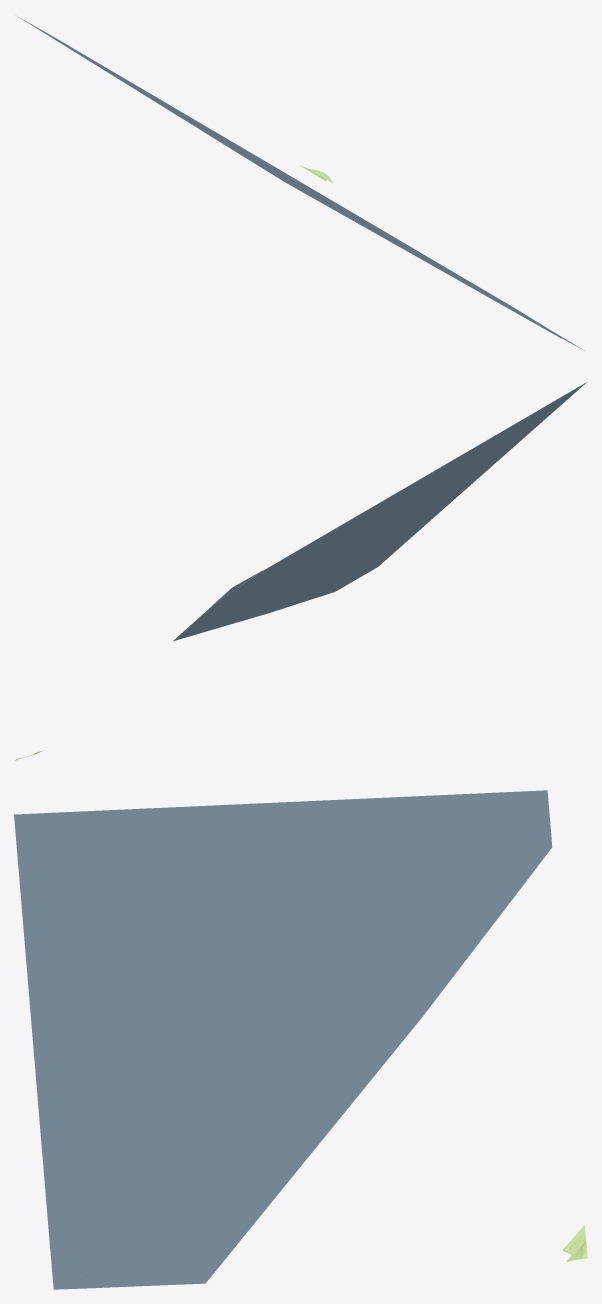
3 views of the same model, one above another, from view 1: azimuth 30°, elevation 25°; view 2: azimuth 150°, elevation 25°; view 3: azimuth 270°, elevation 25° (orthographic). The views are drawn at different scales.
Size of the model in its own units: 436 by 311 by 536.
